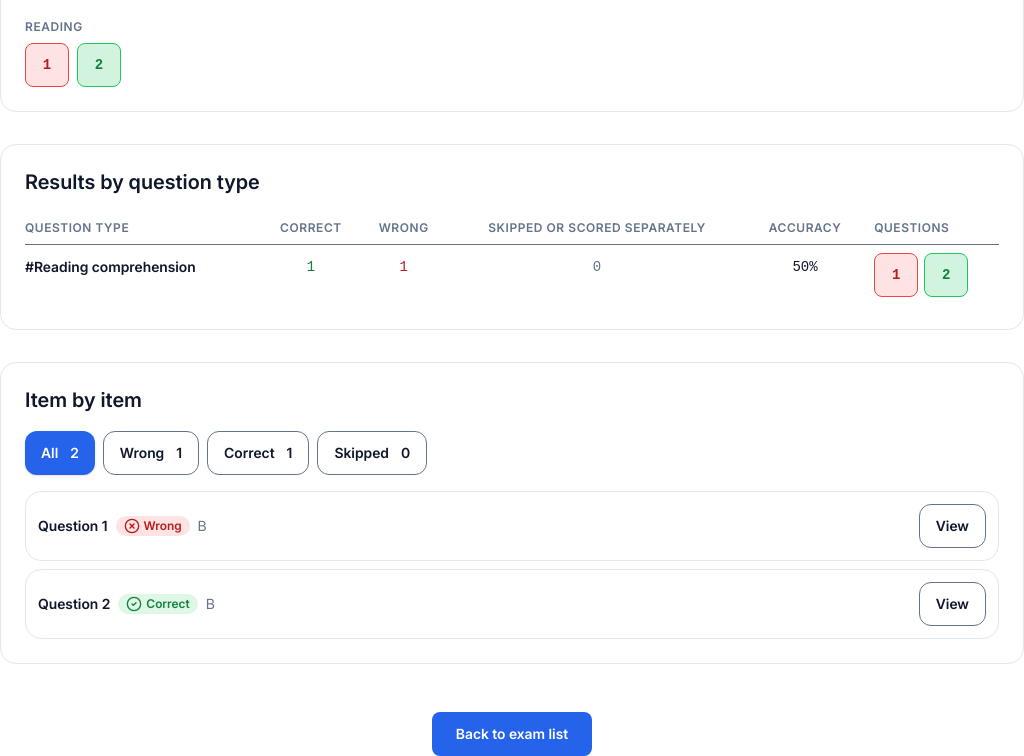
Test: exam report question review › answer-sheet navigation resets the filter and expands its item
The width and height of the screenshot is (1024, 756).
(page scrolled)
What coordinates should you click on to do the following:
click the button "Wrong 1"
I would click on:
 (151, 453)
Its box is [103,431,199,475].
(page scrolled)
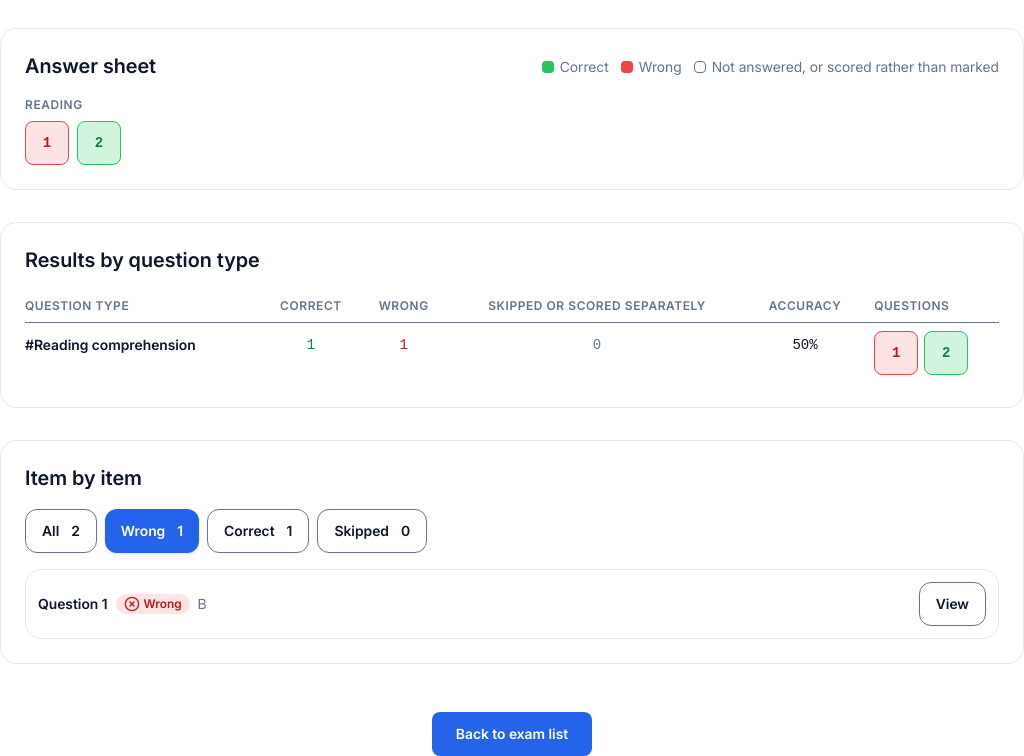
What coordinates should you click on to do the following:
click the button "2" below "Answer sheet"
I would click on:
 (99, 143)
Its box is [77,121,121,165].
(page scrolled)
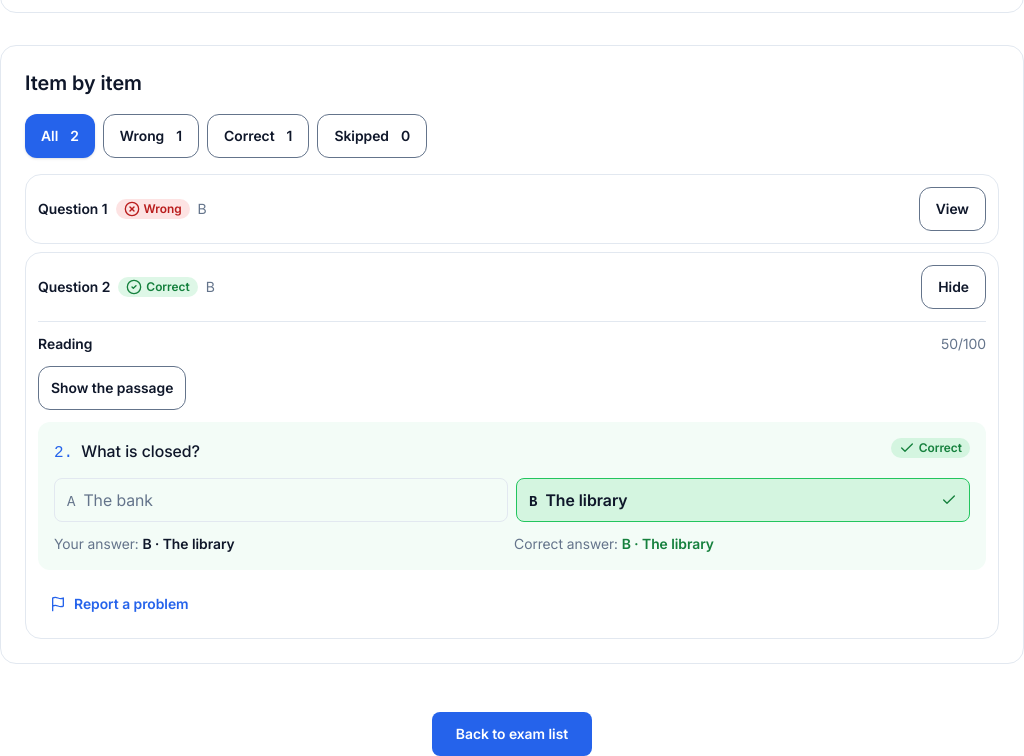
Now the text "What is closed?" is shown, box [81,441,200,461]
